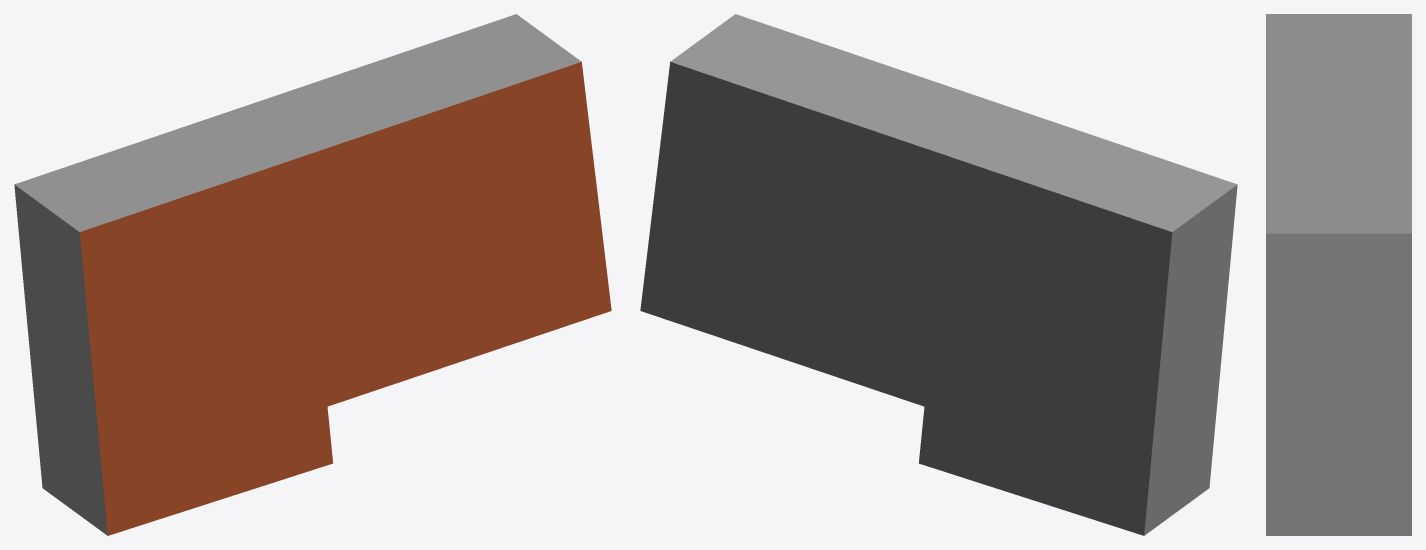
Rendered from construction_3728_assumed_A_Casa_h6m.obj.
The picture shows the model from 3 angles, left to right: view 1: azimuth 30°, elevation 25°; view 2: azimuth 150°, elevation 25°; view 3: azimuth 270°, elevation 25°; orthographic projection. The views are drawn at different scales.
Parts seen in each view (by area): view 1: construction_3728_assumed_A_Casa; view 2: construction_3728_assumed_A_Casa; view 3: construction_3728_assumed_A_Casa.
Part boxes in pixels (bbox=[...]): construction_3728_assumed_A_Casa: bbox=[14, 14, 611, 535]; construction_3728_assumed_A_Casa: bbox=[640, 14, 1237, 535]; construction_3728_assumed_A_Casa: bbox=[1266, 14, 1411, 535].
Size of the model in its own units: 28.22 by 18.17 by 6.
